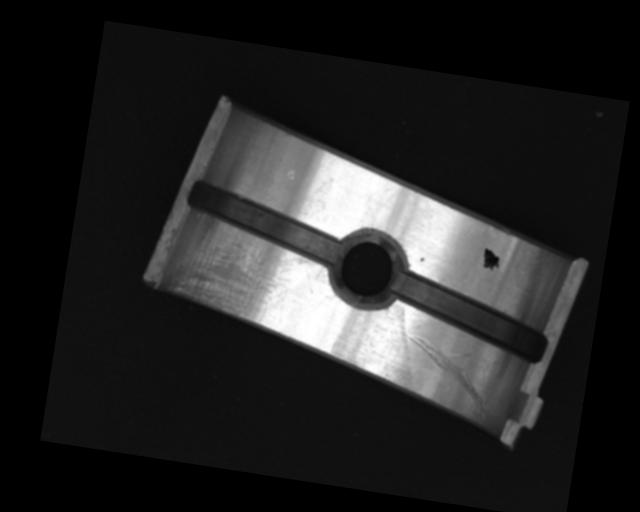blot: (481, 247, 502, 271)
bruise: (285, 168, 296, 182), (420, 256, 425, 262)
gap: (381, 268, 555, 362), (179, 178, 348, 266)
hole: (326, 226, 409, 314)
nick: (389, 328, 501, 422)
scratch: (161, 227, 318, 328)
